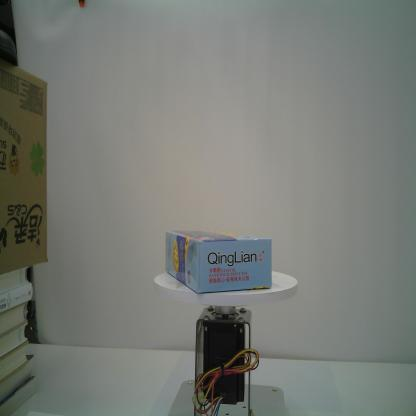Dessert: (164, 229, 272, 294)
